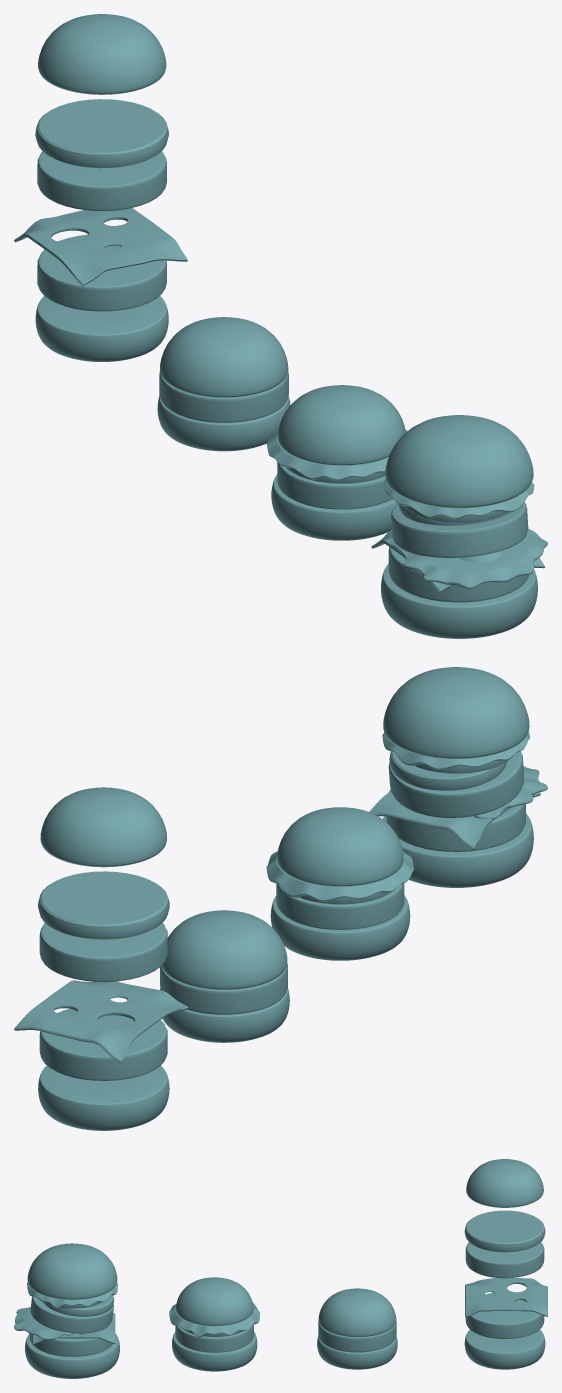
File: sm_burgers.fbx
3 renders of one model, top to bottom at view 1: azimuth 30°, elevation 25°; view 2: azimuth 150°, elevation 25°; view 3: azimuth 270°, elevation 25°, orthographic. The views are drawn at different scales.
Parts seen in each view (by area): view 1: SM_BURGER_3, SM_BURGER_2, SM_BURGER_1, SM_BREAD_1, SM_TOMATOO, SM_CHEESE, SM_BREAD_2, SM_MEAT__2, SM_MEAT_1; view 2: SM_BURGER_3, SM_BURGER_2, SM_BURGER_1, SM_BREAD_1, SM_TOMATOO, SM_CHEESE, SM_BREAD_2, SM_MEAT__2, SM_MEAT_1; view 3: SM_BURGER_3, SM_BURGER_2, SM_BURGER_1, SM_BREAD_1, SM_TOMATOO, SM_CHEESE, SM_BREAD_2, SM_MEAT__2, SM_MEAT_1.
Boxes of the visible parts, x1,y1,x2,y2 form: SM_BURGER_3: (371, 415, 547, 638); SM_BURGER_2: (267, 385, 407, 540); SM_BURGER_1: (157, 317, 290, 451); SM_BREAD_1: (38, 14, 166, 94); SM_TOMATOO: (35, 99, 168, 168); SM_CHEESE: (14, 208, 187, 286); SM_BREAD_2: (35, 296, 168, 361); SM_MEAT__2: (37, 151, 166, 210); SM_MEAT_1: (37, 234, 166, 311); SM_BURGER_3: (369, 667, 547, 887); SM_BURGER_2: (266, 807, 414, 960); SM_BURGER_1: (160, 910, 289, 1042); SM_BREAD_1: (40, 787, 166, 867); SM_TOMATOO: (38, 871, 169, 939); SM_CHEESE: (14, 980, 188, 1062); SM_BREAD_2: (38, 1065, 169, 1130); SM_MEAT__2: (39, 923, 167, 981); SM_MEAT_1: (39, 1008, 167, 1080); SM_BURGER_3: (14, 1243, 119, 1378); SM_BURGER_2: (169, 1277, 259, 1371); SM_BURGER_1: (317, 1288, 397, 1369); SM_BREAD_1: (466, 1159, 543, 1207); SM_TOMATOO: (464, 1210, 545, 1252); SM_CHEESE: (465, 1278, 547, 1317); SM_BREAD_2: (464, 1330, 545, 1369); SM_MEAT__2: (465, 1242, 544, 1278); SM_MEAT_1: (465, 1293, 544, 1338).
Bounding box in the file's own units: 22.65 × 51.85 × 127.
